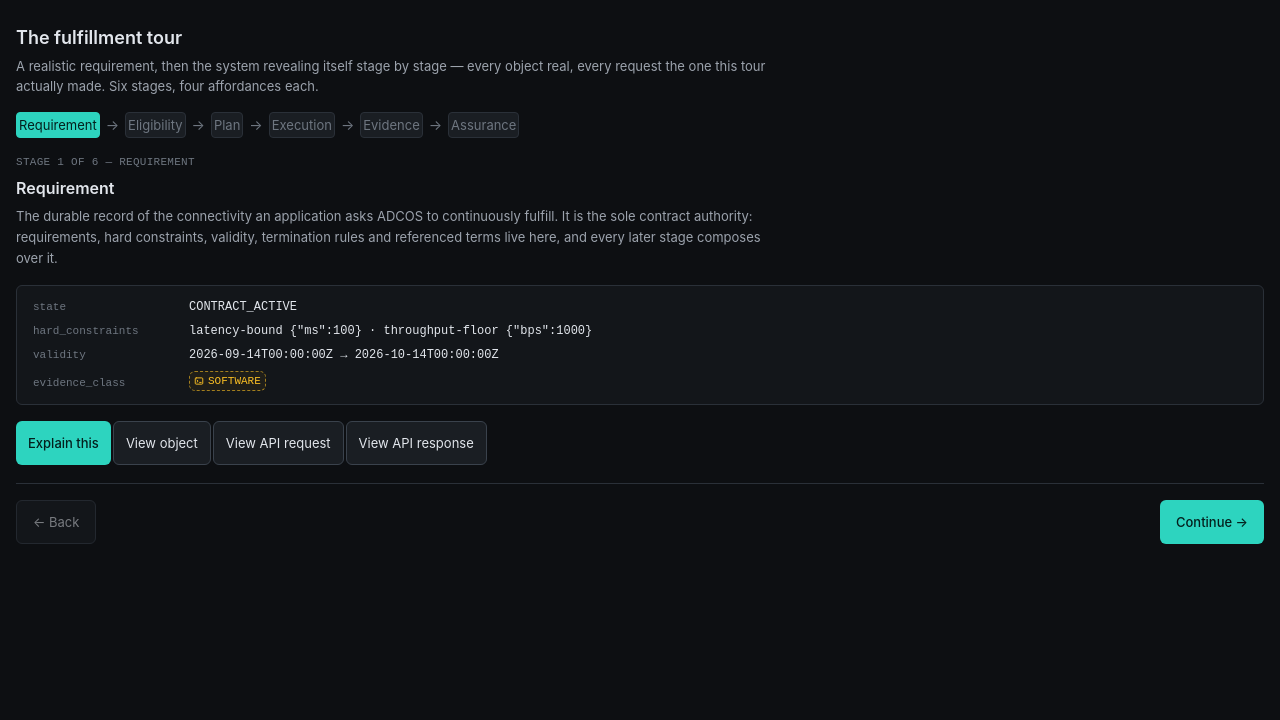
Test case: The fulfillment tour — the stage sequence › renders the real stage facts from the demonstration document
The image size is (1280, 720).
Expected: the element with test id "tour-stage" is shown, 16,154 -> 1264,544
Expected: the heading "Requirement" is shown, 16,178 -> 114,198
Eligibility — the boundary trace
Click the button with test id "tour-continue": (1212, 522) 1160,500 -> 1264,544
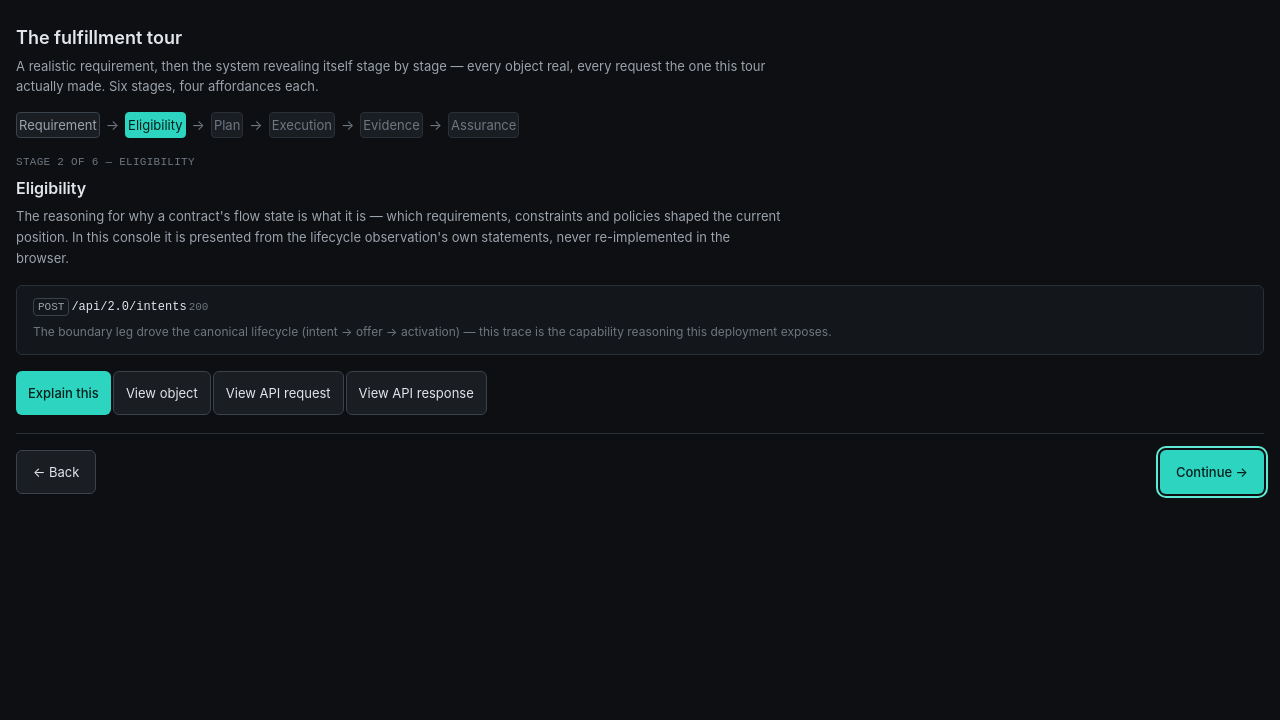
Now the text "/api/2.0/intents" is shown, box 71,298 -> 187,316
Now the list item "capability reasoning" is shown, box 33,324 -> 832,339
Plan — the real plan id and composition
Click the button with test id "tour-continue": (1212, 472) 1160,450 -> 1264,494
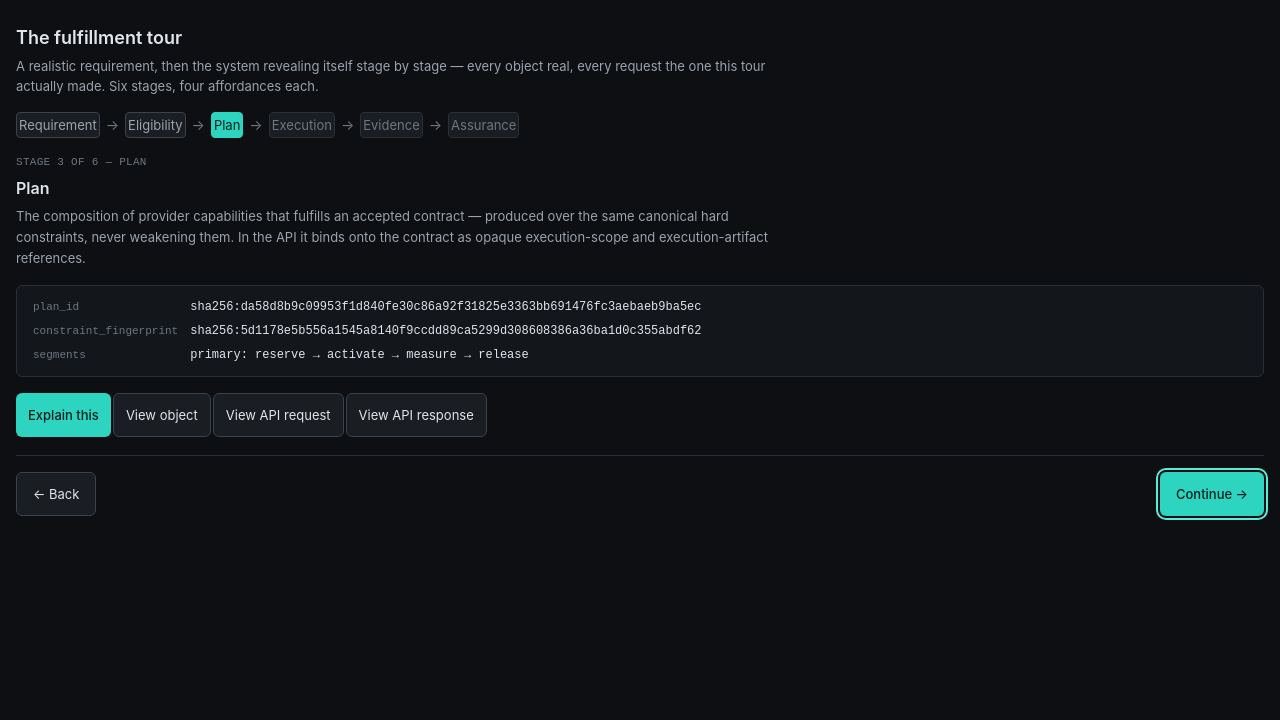
Now the text "da58d8b9c09953f1" is shown, box 190,300 -> 702,314
Now the text "primary: reserve → activate → measure → release" is shown, box 190,348 -> 529,362
Execution — the provider facts and the segment-state chain
Click the button "Continue →": (1212, 494) 1160,472 -> 1264,516
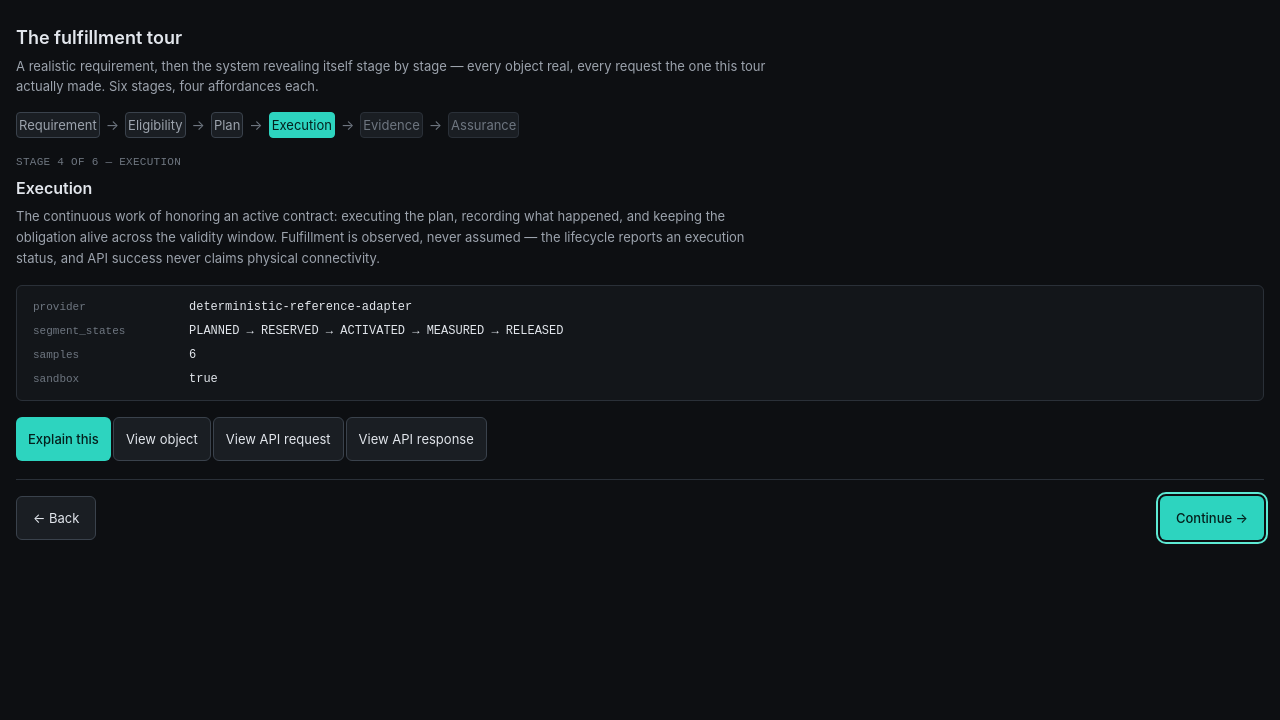
Now the text "deterministic-reference-adapter" is shown, box 189,300 -> 412,314
Now the text "PLANNED → RESERVED → ACTIVATED → MEASURED → RELEASED" is shown, box 189,324 -> 564,338
Click the button with test id "tour-continue": (1212, 518) 1160,496 -> 1264,540
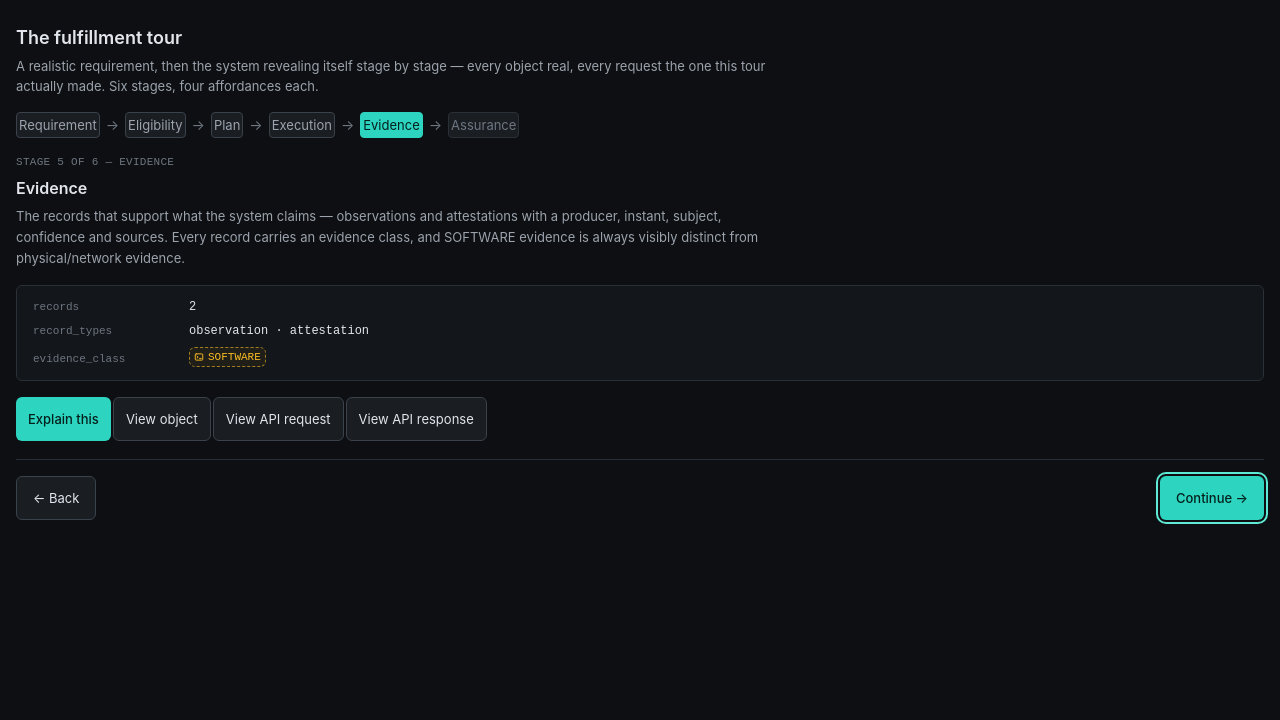
Now the text "attestation" is shown, box 16,208 -> 758,266
Now the element with test id "evidence-badge" is shown, box 189,347 -> 266,367
Assurance — the referenced obligations, honestly unevaluated
Click the button "Continue →": (1212, 498) 1160,476 -> 1264,520
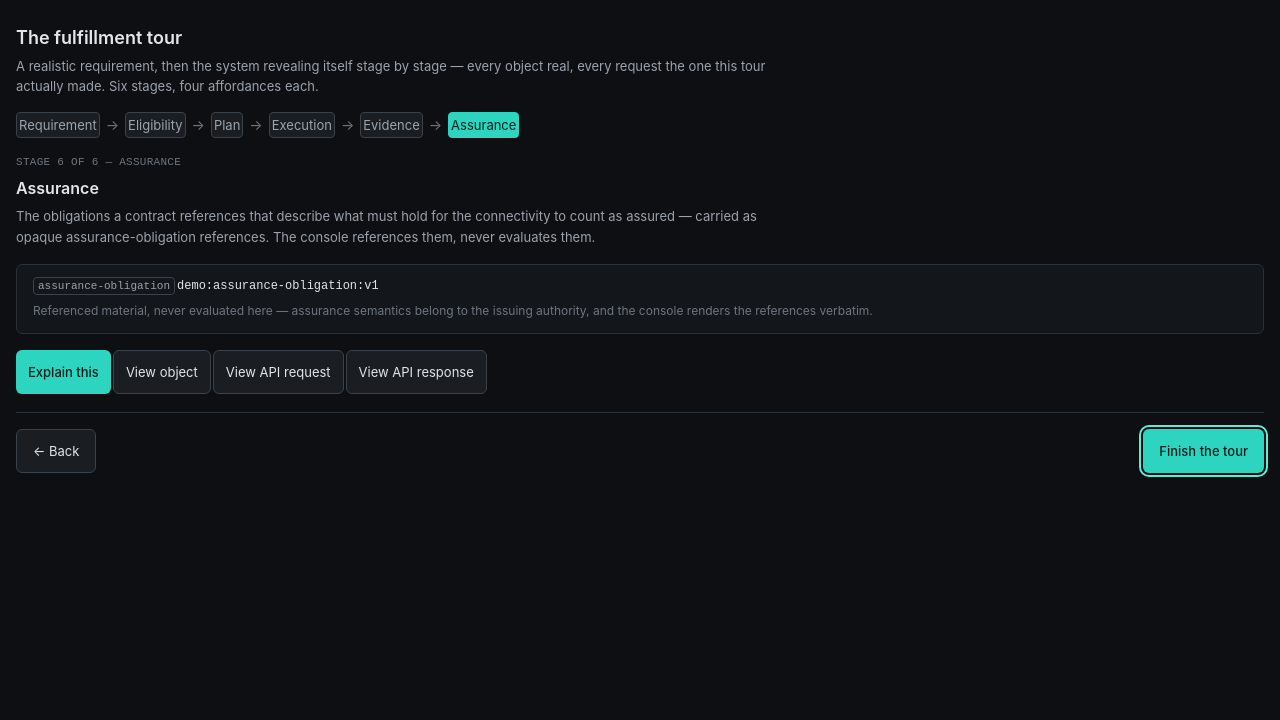
Now the text "demo:assurance-obligation:v1" is shown, box 177,277 -> 379,295
Now the list item "Referenced material, never evaluated here" is shown, box 33,303 -> 873,318
